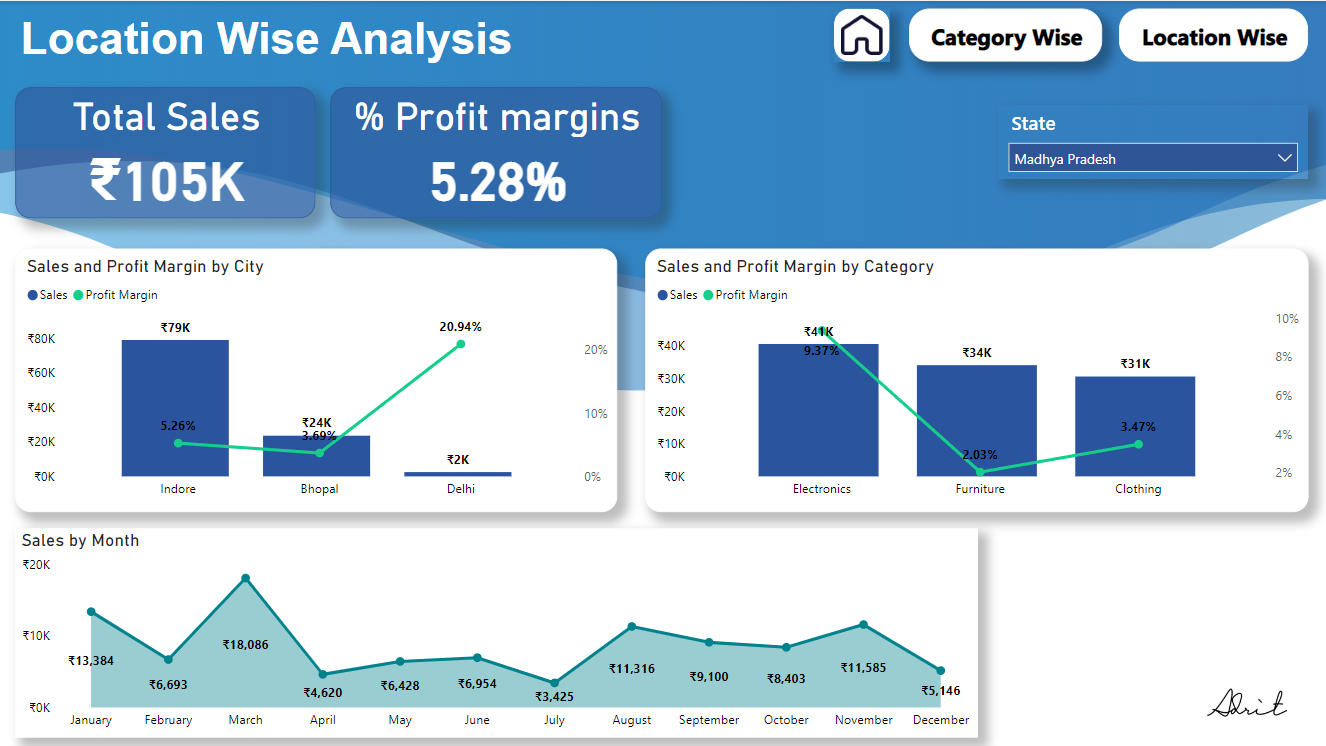

This screenshot's page, from the dashboard's own definition file:
{"tool":"powerbi","page":{"name":"State wise","canvas":[1280,720],"ordinal":2},"visuals":[{"type":"textbox","box":[15.1,6.9,608.4,63.2],"z":1000},{"type":"card","title":"Total Sales","fields":{"Values":["Sum(Order Details.Amount)"]},"box":[15.1,83.8,289.8,126.4],"z":2000},{"type":"slicer","fields":{"Values":["List of Orders.State"]},"box":[964.1,100.3,299.4,71.4],"z":3000},{"type":"card","title":"% Profit margins","fields":{"Values":["Order Details.profit margin"]},"box":[320,83.8,320,126.4],"z":4000},{"type":"lineClusteredColumnComboChart","fields":{"Category":["List of Orders.City"],"Y":["Sum(Order Details.Amount)"],"Y2":["Order Details.profit margin"]},"box":[15.1,239,580.9,254.1],"z":5000},{"type":"lineClusteredColumnComboChart","fields":{"Category":["Order Details.Category"],"Y":["Sum(Order Details.Amount)"],"Y2":["Order Details.profit margin"]},"box":[623.5,239,640,254.1],"z":6000},{"type":"stackedAreaChart","fields":{"Category":["List of Orders.Order Date.Variation.Date Hierarchy.Month"],"Y":["Sum(Order Details.Amount)"]},"box":[15.7,508.9,928.6,201.4],"z":7000},{"type":"actionButton","title":"Over All","box":[877.6,6.9,186.8,50.8],"z":8000},{"type":"actionButton","title":"Over All","box":[1080.9,6.9,182.7,50.8],"z":9000},{"type":"actionButton","box":[806.2,6.9,53.6,50.8],"z":10000},{"type":"image","box":[1143.3,657.3,119.4,41],"z":10001}]}

Visuals, with their boxes in screenshot pixels (x1, y1, x2, y2), scaled from the page's 1280x720 canvas onto the 1326x746 screenshot:
textbox: BBox(16, 7, 646, 73)
"Total Sales" card: BBox(16, 87, 316, 218)
slicer - List of Orders.State: BBox(999, 104, 1309, 178)
"% Profit margins" card: BBox(332, 87, 663, 218)
lineClusteredColumnComboChart - List of Orders.City x Sum(Order Details.Amount): BBox(16, 248, 617, 511)
lineClusteredColumnComboChart - Order Details.Category x Sum(Order Details.Amount): BBox(646, 248, 1309, 511)
stackedAreaChart - List of Orders.Order Date.Variation.Date Hierarchy.Month x Sum(Order Details.Amount): BBox(16, 527, 978, 736)
"Over All" actionButton: BBox(909, 7, 1103, 60)
"Over All" actionButton: BBox(1120, 7, 1309, 60)
actionButton: BBox(835, 7, 891, 60)
image: BBox(1184, 681, 1308, 724)
